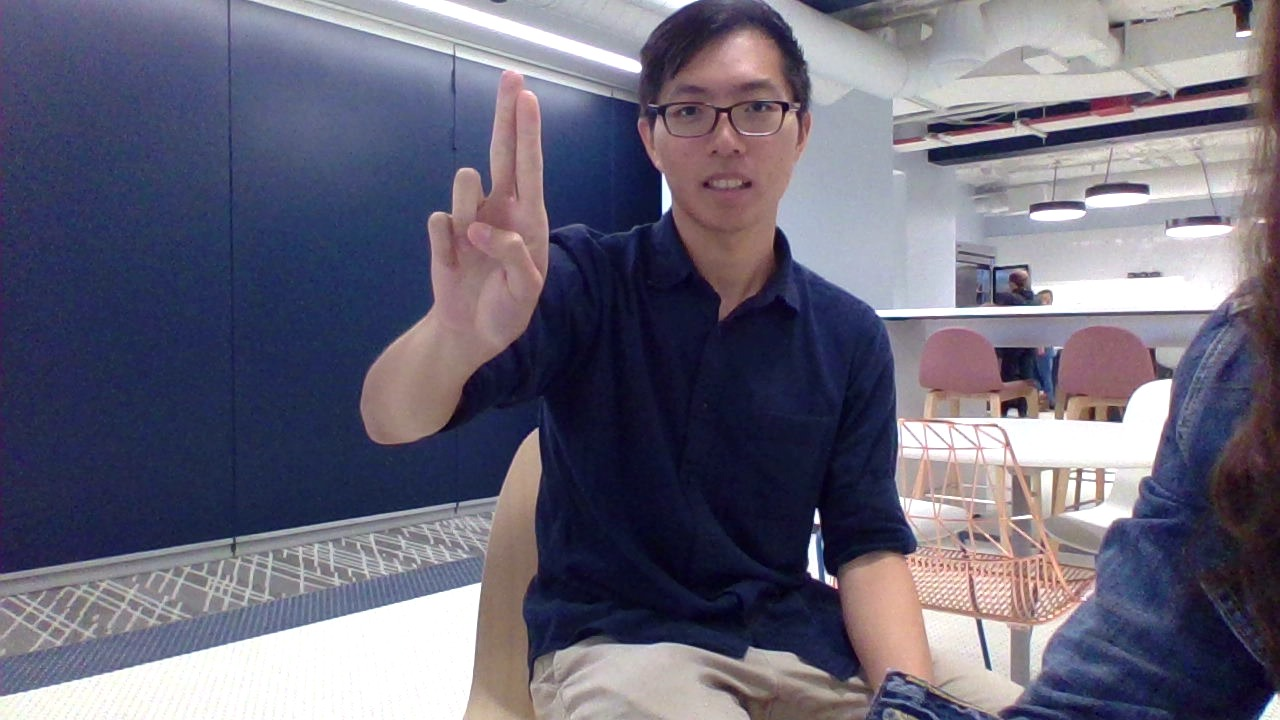u: (417, 55, 570, 376)
